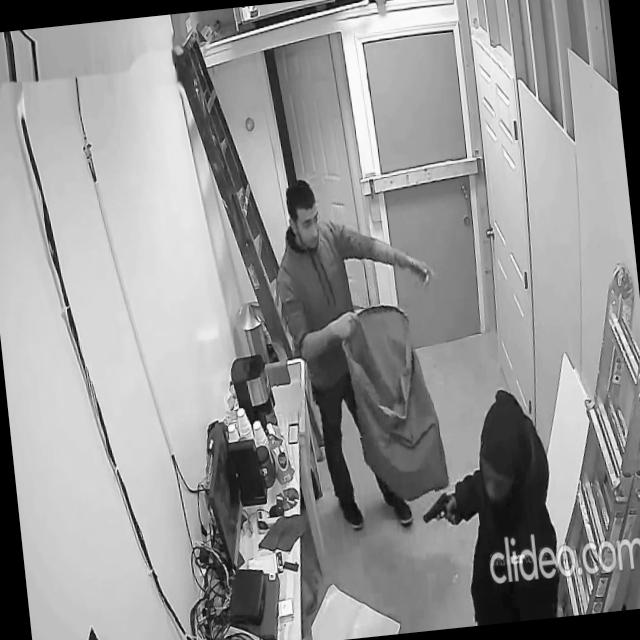gun: (419, 489, 453, 525)
person: (266, 165, 460, 540), (436, 383, 564, 627)
person with a gun: (409, 382, 564, 630)
